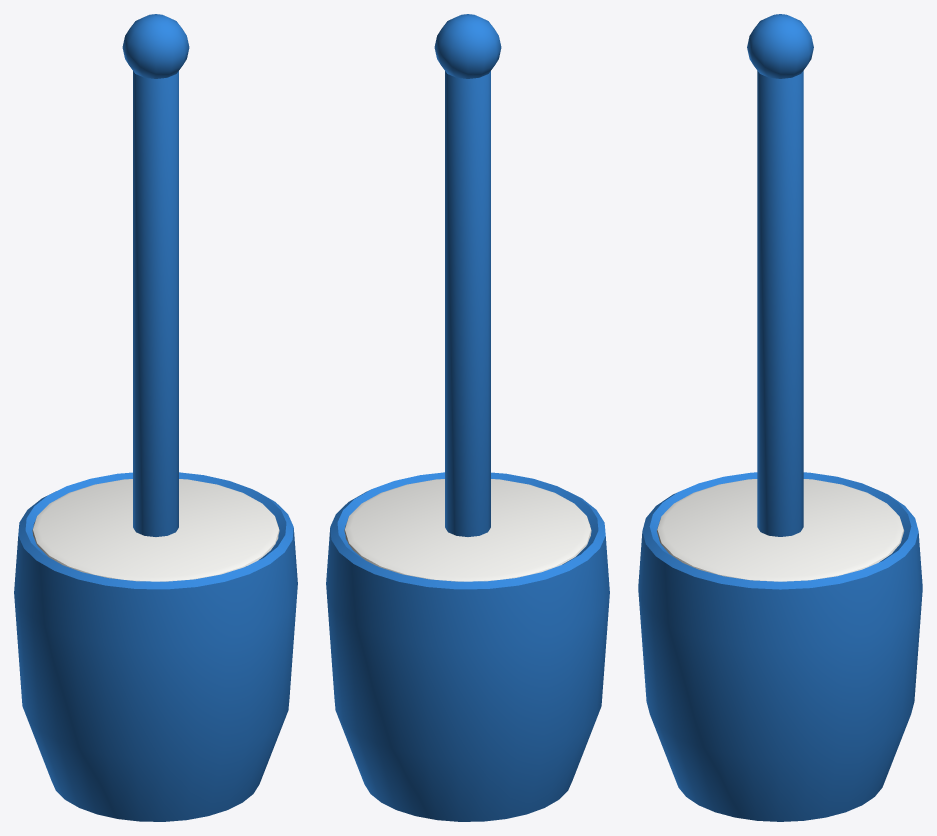
The model's file is escova_vaso_azul.glb.
3 renders of one model, left to right at view 1: azimuth 30°, elevation 25°; view 2: azimuth 150°, elevation 25°; view 3: azimuth 270°, elevation 25°, orthographic.
Parts seen in each view (by area): view 1: escova_vaso_azul; view 2: escova_vaso_azul; view 3: escova_vaso_azul.
Boxes of the visible parts, bbox=[...] form: escova_vaso_azul: bbox=[14, 14, 297, 821]; escova_vaso_azul: bbox=[326, 14, 609, 821]; escova_vaso_azul: bbox=[638, 14, 922, 821].
Size of the model in its own units: 0.136 by 0.401 by 0.136.
1 material, 1 textured.
